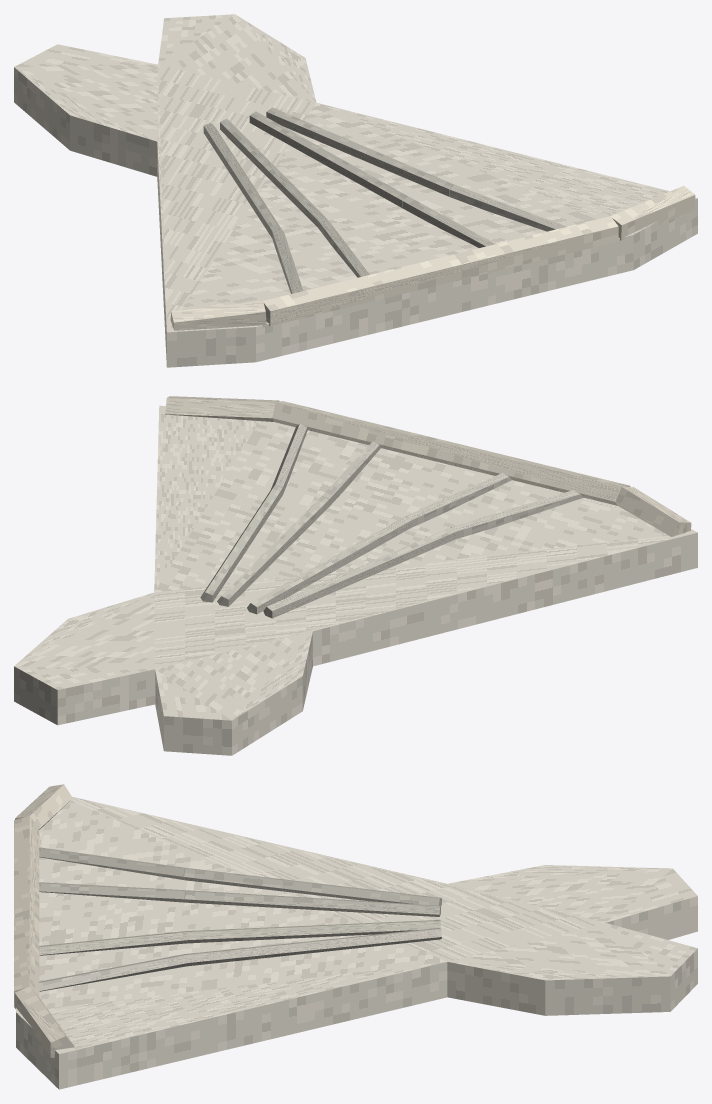
Rendered from dress_wedding.glb.
3 views of the same model, one above another, from view 1: azimuth 30°, elevation 25°; view 2: azimuth 150°, elevation 25°; view 3: azimuth 270°, elevation 25° (orthographic).
Visible parts, largest first — view 1: block_fitted dress and flared skirt, block_bright hem trim 1, block_fabric fold 0 (×4), block_fabric fold 1 (×4), block_bright hem trim 0, block_bright hem trim 2; view 2: block_fitted dress and flared skirt, block_fabric fold 0 (×4), block_bright hem trim 1, block_fabric fold 1 (×4), block_bright hem trim 2, block_bright hem trim 0; view 3: block_fitted dress and flared skirt, block_fabric fold 0 (×4), block_fabric fold 1 (×4), block_bright hem trim 1, block_bright hem trim 2, block_bright hem trim 0.
Boxes of the visible parts, <box> form: block_fitted dress and flared skirt: <box>14,14,697,367</box>; block_bright hem trim 1: <box>262,216,618,326</box>; block_fabric fold 0 (×4): <box>203,107,454,238</box>; block_fabric fold 1 (×4): <box>272,185,566,293</box>; block_bright hem trim 0: <box>170,301,266,330</box>; block_bright hem trim 2: <box>611,186,695,240</box>; block_fitted dress and flared skirt: <box>14,405,697,755</box>; block_fabric fold 0 (×4): <box>200,485,456,618</box>; block_bright hem trim 1: <box>272,401,630,505</box>; block_fabric fold 1 (×4): <box>271,423,583,538</box>; block_bright hem trim 2: <box>165,396,279,421</box>; block_bright hem trim 0: <box>615,486,691,536</box>; block_fitted dress and flared skirt: <box>16,796,697,1089</box>; block_fabric fold 0 (×4): <box>184,868,441,966</box>; block_fabric fold 1 (×4): <box>38,847,187,991</box>; block_bright hem trim 1: <box>14,815,39,1005</box>; block_bright hem trim 2: <box>14,986,74,1057</box>; block_bright hem trim 0: <box>15,784,72,829</box>.
Size of the model in its own units: 1.13 by 0.1073 by 1.25.
1 material, 1 textured.
